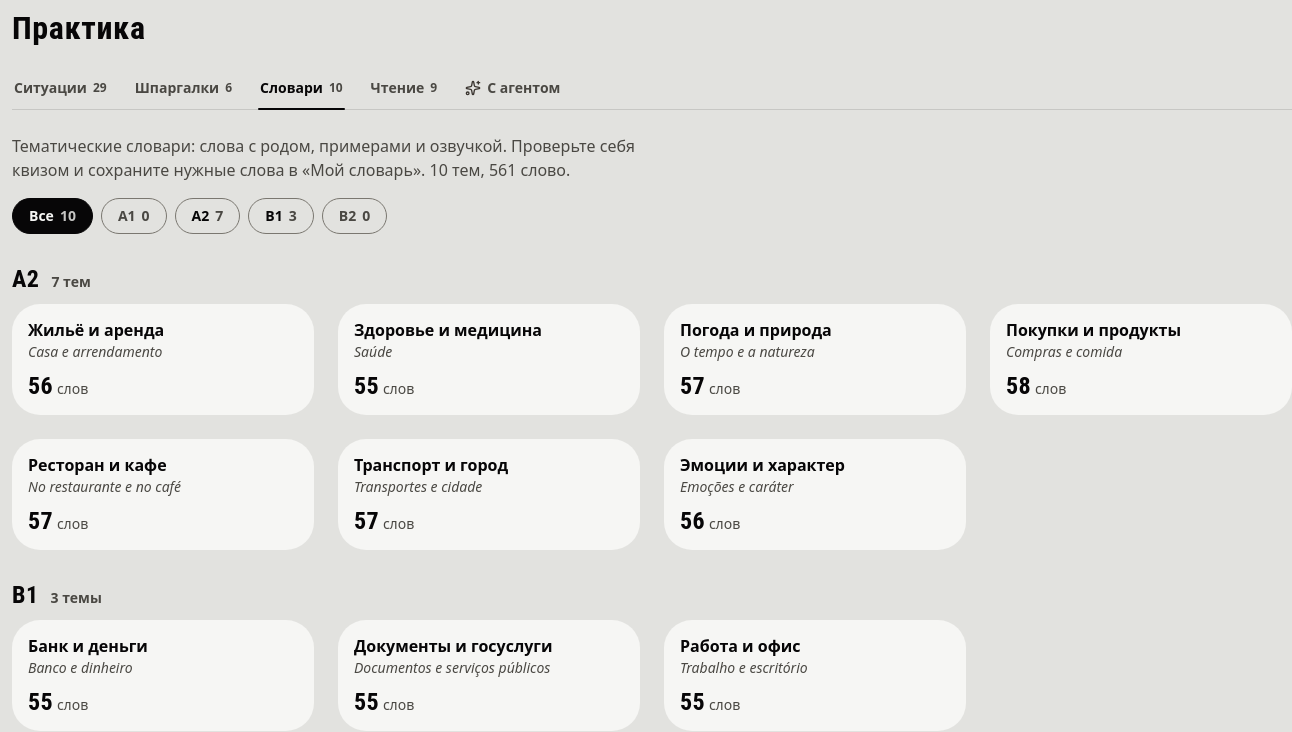
it: VocabIndexPage › filter: B1 only; empty level message
This screenshot has width=1292, height=732.
Click the button "B1 3" at (281, 216), box top-left (248, 198), bottom-right (314, 234)
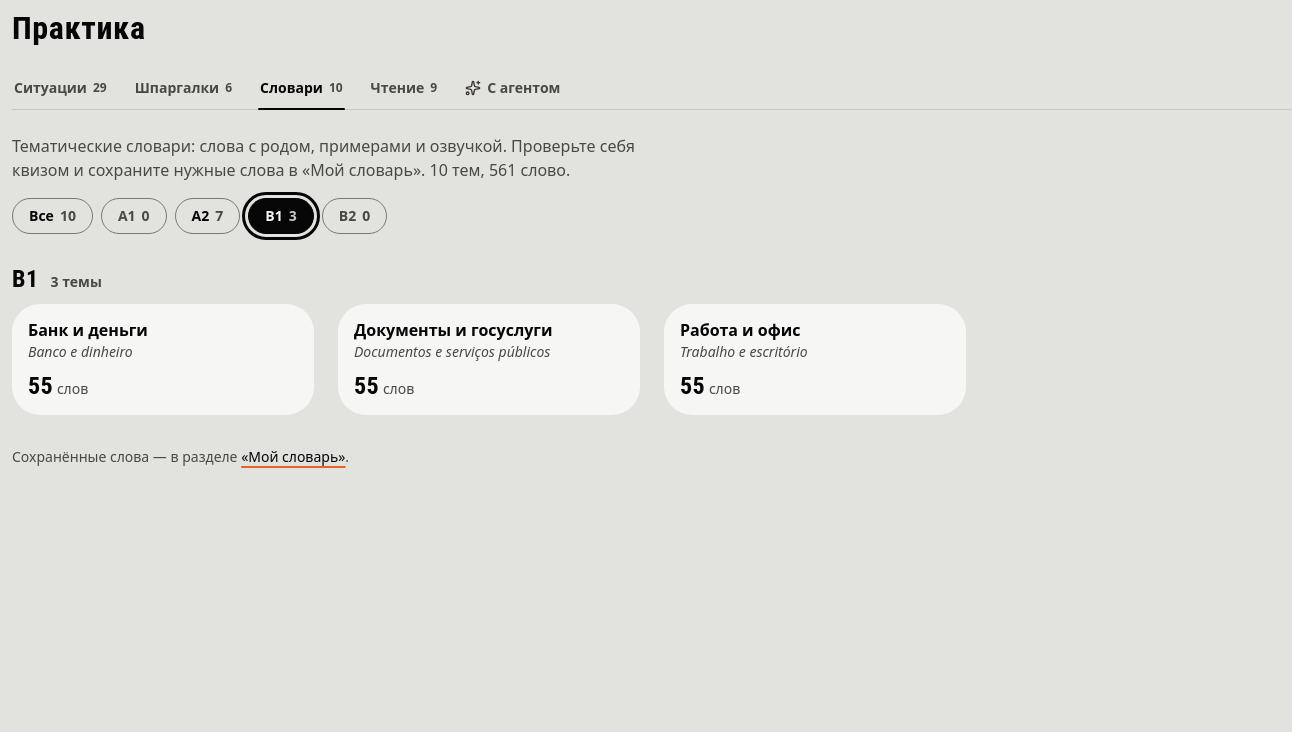
Click the button "B2 0" at (354, 216), box top-left (322, 198), bottom-right (387, 234)
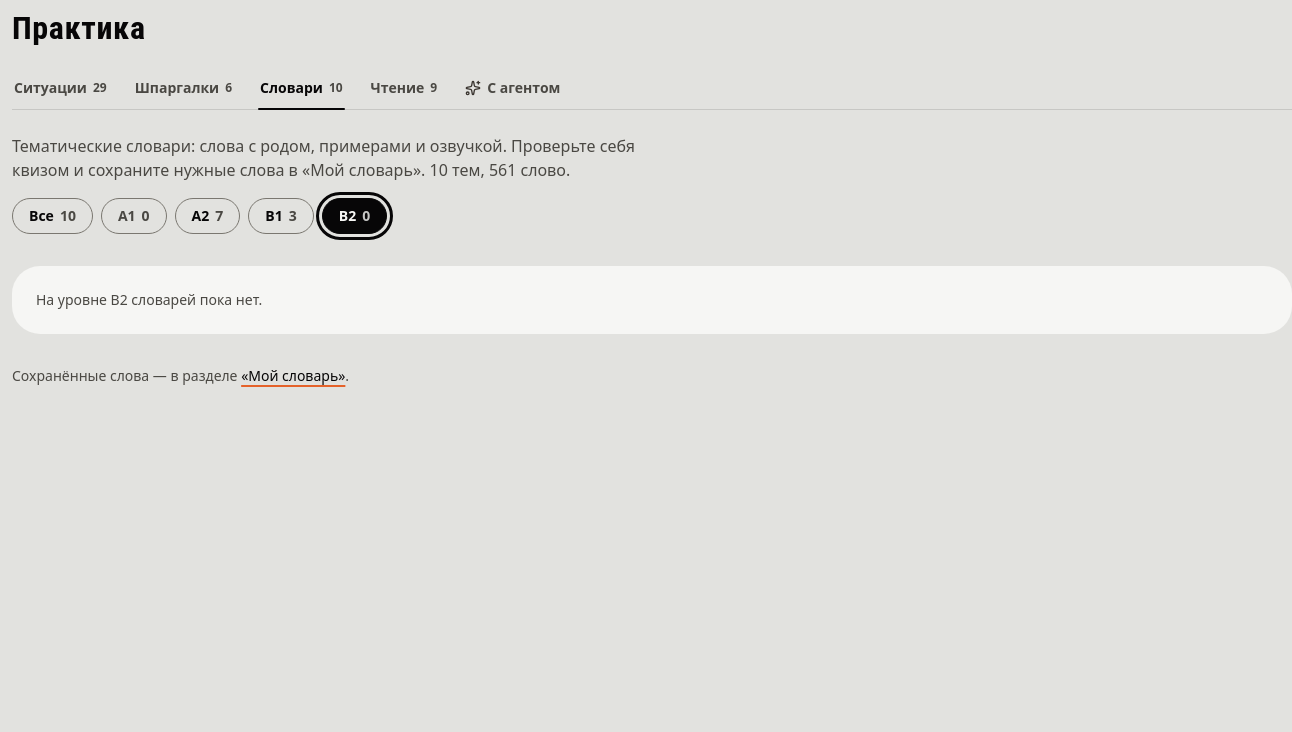
expect the text "На уровне B2 словарей пока нет." is shown: met, box top-left (12, 266), bottom-right (1291, 334)
